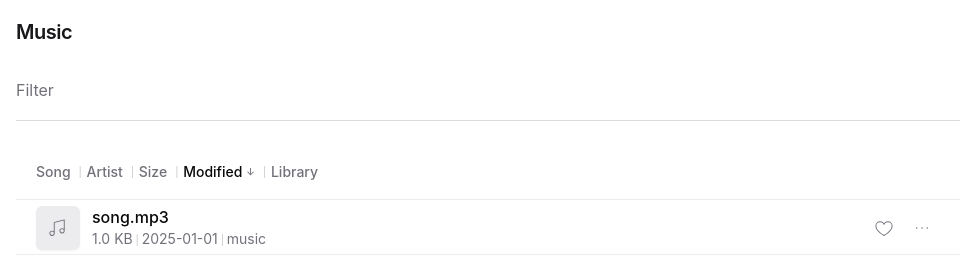
Test case: LibraryScreen › mouse long press can still enter selection mode on desktop
The image size is (977, 272).
Check: the text "song.mp3" is shown, box [92, 207, 169, 227]
Press the mouse on the button with aria-label "Play song.mp3" at {"x": 58, "y": 228}, box [36, 205, 824, 250]
Wait 500 ms
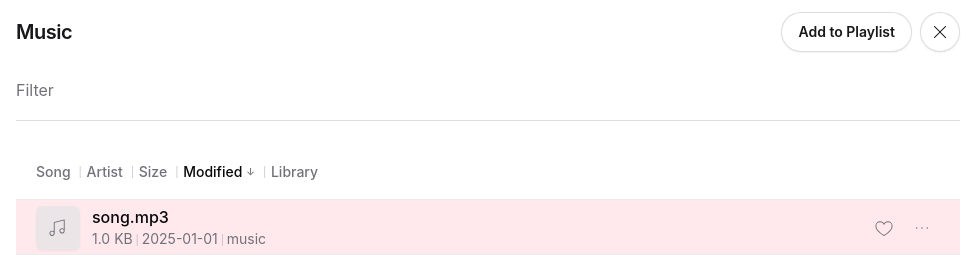
Check: the button with test id "selection-add-to-playlist" is shown, box [781, 12, 912, 52]
